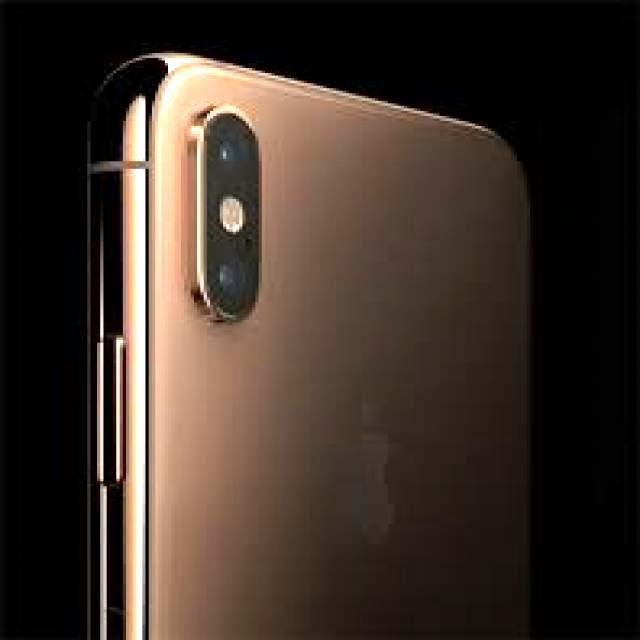lens_back: (81, 40, 575, 640), (193, 117, 272, 188), (199, 248, 265, 322)
